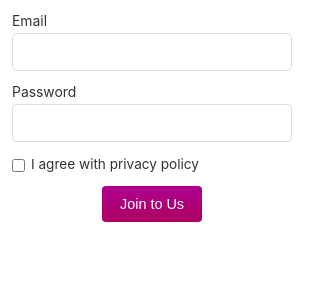
Test: shows conflict error
This screenshot has width=332, height=293.
Type "mail@app.test" into the field labelled "Email". click: (152, 52)
box: [12,33,292,71]
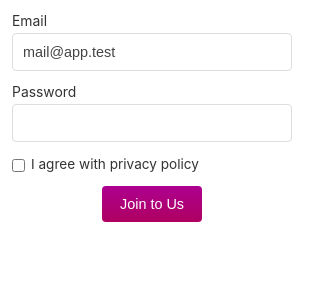
Type "password" into the password field labelled "Password". click: (152, 123)
box: [12,104,292,142]
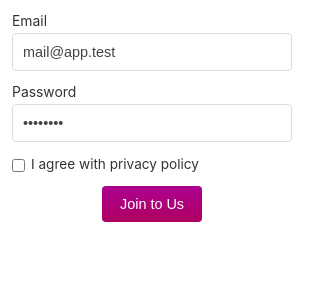
Click the checkbox labelled "I agree with privacy policy". click: (18, 165)
box: [12,159,25,172]
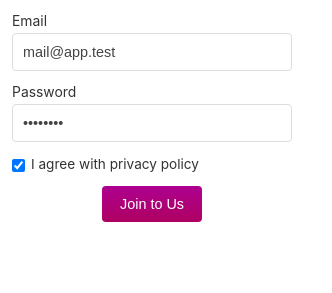
Click the button with test id "join-button". click: (152, 204)
box: [102,186,202,222]
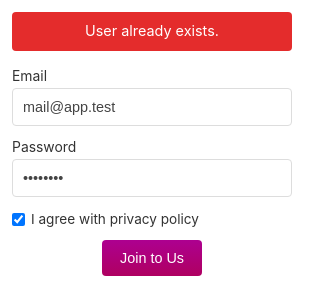
Expected: the text with test id "alert-error" reads "User already exists.", [85,22,219,39]
